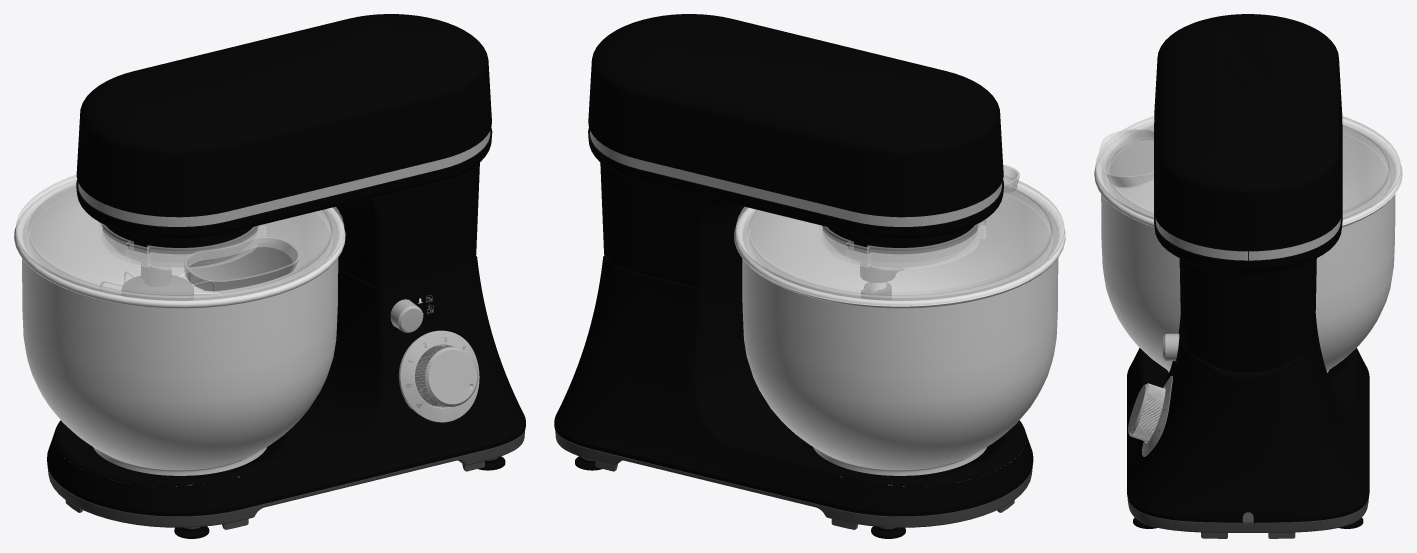
File: foodMixer_B0F654S7RJ_main_chromeBlackPaint.glb
3 renders of one model, left to right at view 1: azimuth 30°, elevation 25°; view 2: azimuth 150°, elevation 25°; view 3: azimuth 270°, elevation 25°, orthographic. The views are drawn at different scales.
Visible parts, largest first — view 1: obj1, 5L_1, YD_XX2_1_2__1, PRT0024_1, YD_XX2_2_5_1, PRT0008, BREP_4_1, MIANBAN_1, PRT0007_1, ANNIU_1, PRT0075_1; view 2: obj1, 5L_1, YD_XX2_1_2__1, PRT0024_1, YD_XX2_2_5_1, PRT0008, PRT0007_1; view 3: obj1, YD_XX2_1_2__1, 5L_1, PRT0024_1, YD_XX2_2_5_1, PRT0008, BREP_4_1, MIANBAN_1, ANNIU_1.
Part boxes in pixels (x1,y1,x2,y2): obj1: (76,14,492,301); 5L_1: (14,180,345,475); YD_XX2_1_2__1: (47,256,525,516); PRT0024_1: (16,175,344,300); YD_XX2_2_5_1: (47,406,524,529); PRT0008: (78,131,490,226); BREP_4_1: (415,345,477,407); MIANBAN_1: (398,330,479,422); PRT0007_1: (122,253,238,295); ANNIU_1: (390,299,423,332); PRT0075_1: (174,456,505,538); obj1: (588,14,1003,287); 5L_1: (734,180,1065,475); YD_XX2_1_2__1: (554,255,1033,516); PRT0024_1: (736,164,1064,300); YD_XX2_2_5_1: (555,430,1032,529); PRT0008: (590,131,1001,226); PRT0007_1: (860,265,903,295); obj1: (1154,14,1342,371); YD_XX2_1_2__1: (1127,314,1369,523); 5L_1: (1094,121,1402,372); PRT0024_1: (1095,116,1401,219); YD_XX2_2_5_1: (1127,496,1368,538); PRT0008: (1155,219,1340,260); BREP_4_1: (1128,383,1165,442); MIANBAN_1: (1142,376,1172,456); ANNIU_1: (1162,333,1179,361).
Size of the model in its own units: 0.3547 by 0.2942 by 0.2246.
4 materials, 1 textured.
